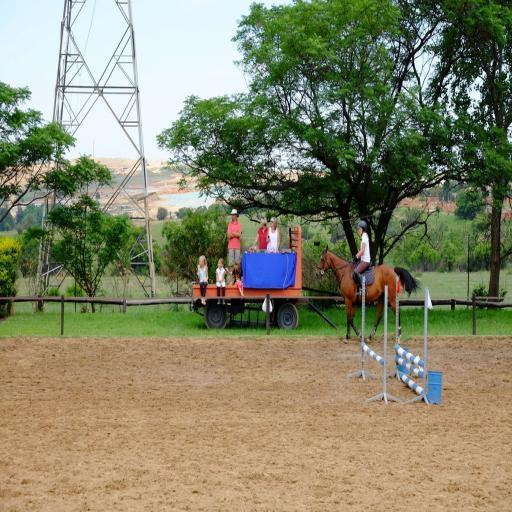horse: (314, 245, 422, 345)
